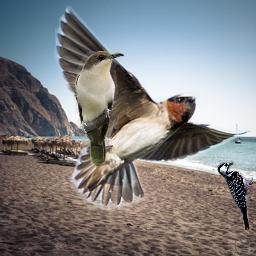Cuckoo: (75, 51, 125, 168)
Swallow: (53, 6, 253, 210)
Woodpecker: (217, 160, 253, 230)
